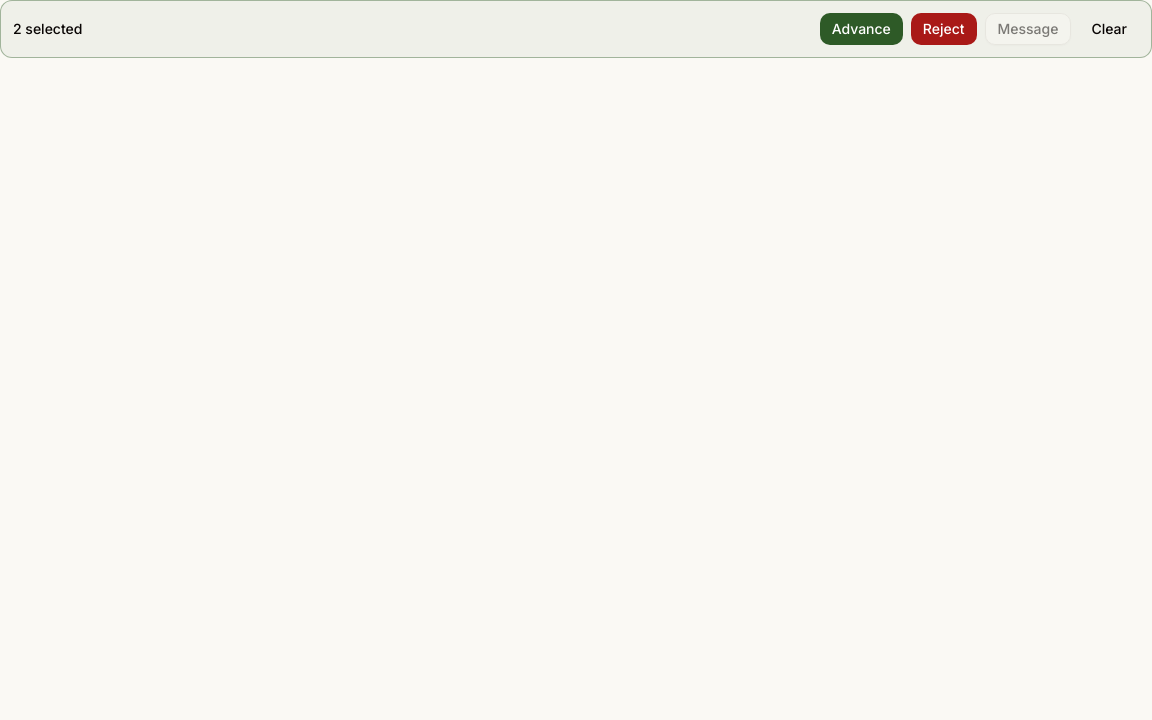
Test: BulkActionToolbar › opens confirmation modal when Reject is clicked
The width and height of the screenshot is (1152, 720).
Click the button with test id "bulk-reject-button": click(944, 29) left=911, top=13, right=976, bottom=45
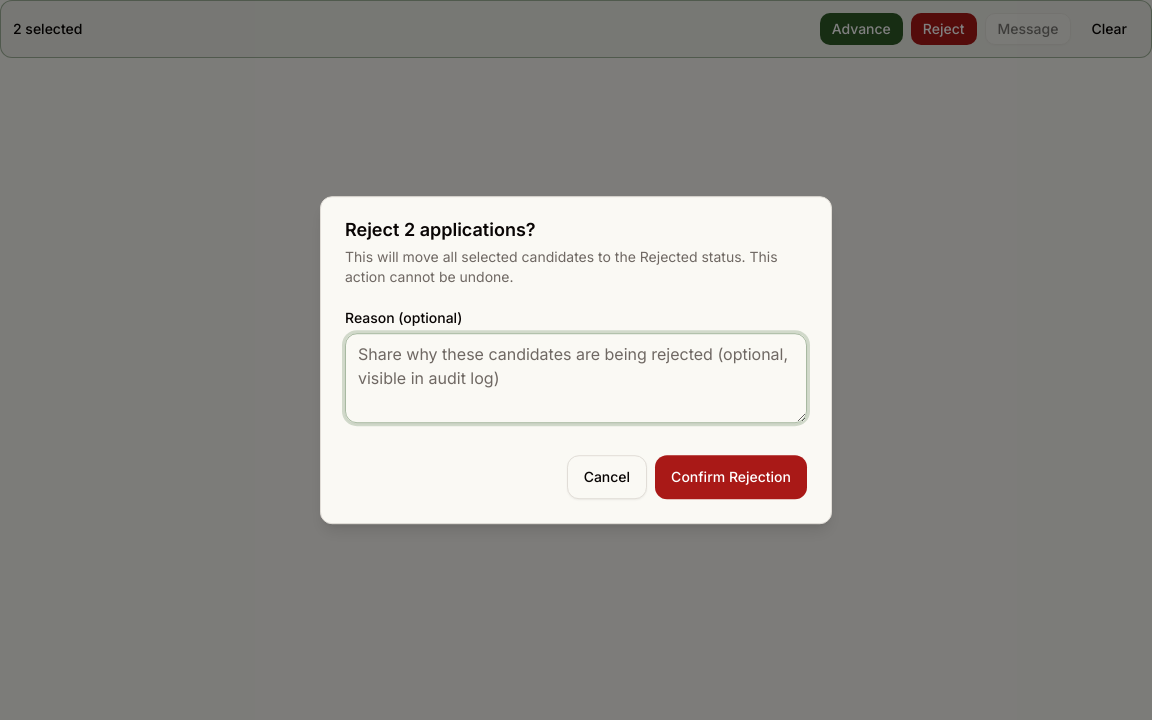
Now the dialog with test id "bulk-reject-modal" is shown, box left=320, top=196, right=832, bottom=524
Now the heading "Reject 2 applications?" is shown, box left=345, top=219, right=536, bottom=240
